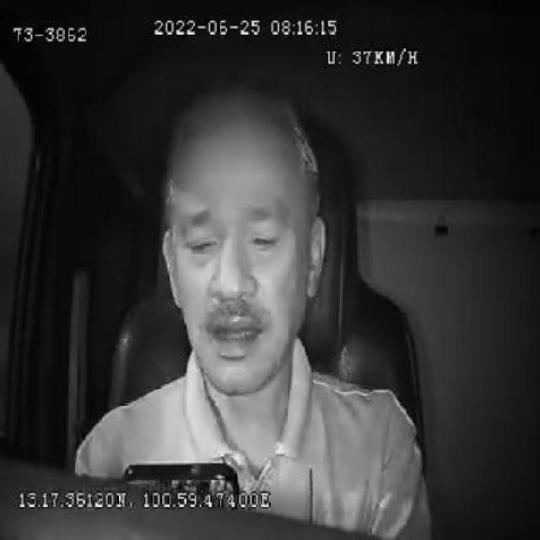phone: (124, 458, 242, 490)
